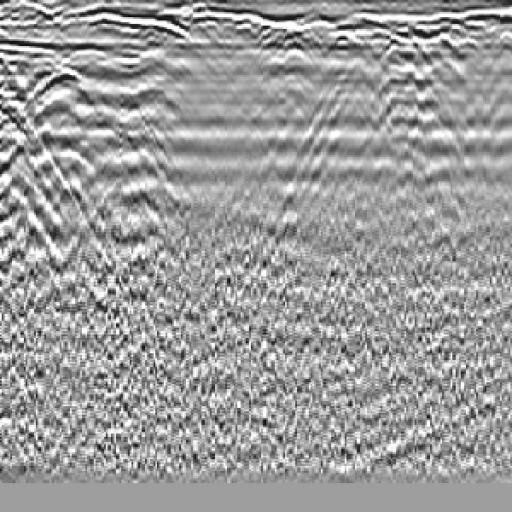non-metallic: (1, 51, 155, 280)
